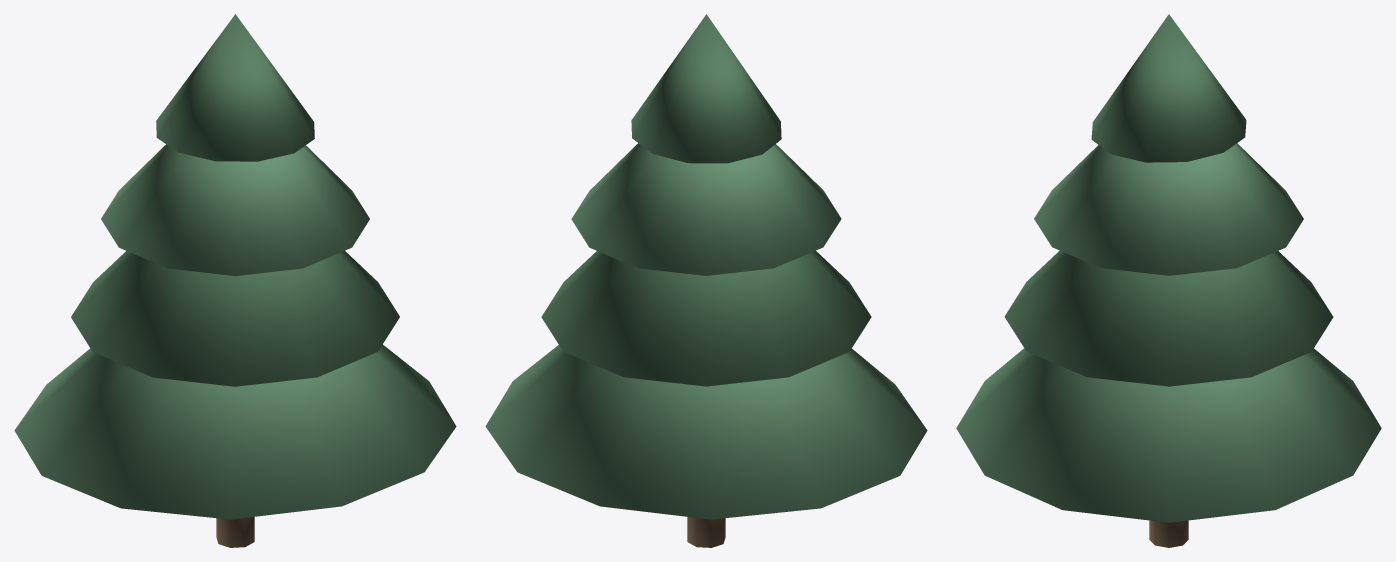
File: pine_tree.glb
The picture shows the model from 3 angles, left to right: view 1: azimuth 30°, elevation 25°; view 2: azimuth 150°, elevation 25°; view 3: azimuth 270°, elevation 25°; orthographic projection.
Visible parts, largest first — view 1: PineTree; view 2: PineTree; view 3: PineTree.
Boxes of the visible parts, box(x1,y1,x2,y2) form: PineTree: box(14, 14, 456, 547); PineTree: box(485, 14, 927, 547); PineTree: box(956, 14, 1381, 547).
Bounding box in the file's own units: 0.91 × 1.18 × 0.8658.
